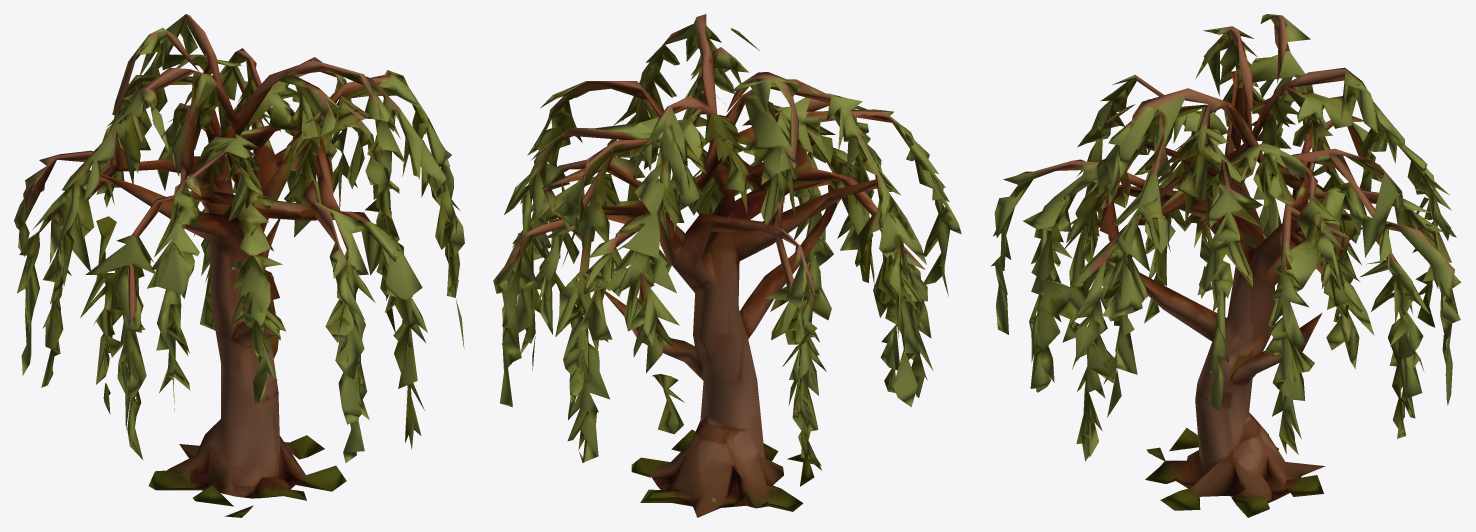
Rendered from tree_willow.glb.
3 views of the same model, side by side, from view 1: azimuth 30°, elevation 25°; view 2: azimuth 150°, elevation 25°; view 3: azimuth 270°, elevation 25° (orthographic). The views are drawn at different scales.
Visible parts, largest first — view 1: tripo_node_385da73f-3c6b-47b3-929d-eebf0095a468; view 2: tripo_node_385da73f-3c6b-47b3-929d-eebf0095a468; view 3: tripo_node_385da73f-3c6b-47b3-929d-eebf0095a468.
Boxes of the visible parts, x1,y1,x2,y2 form: tripo_node_385da73f-3c6b-47b3-929d-eebf0095a468: (14,14,464,517); tripo_node_385da73f-3c6b-47b3-929d-eebf0095a468: (493,14,961,517); tripo_node_385da73f-3c6b-47b3-929d-eebf0095a468: (991,14,1461,517).
Bounding box in the file's own units: 0.954 × 1 × 0.9707.
1 material, 1 textured.
